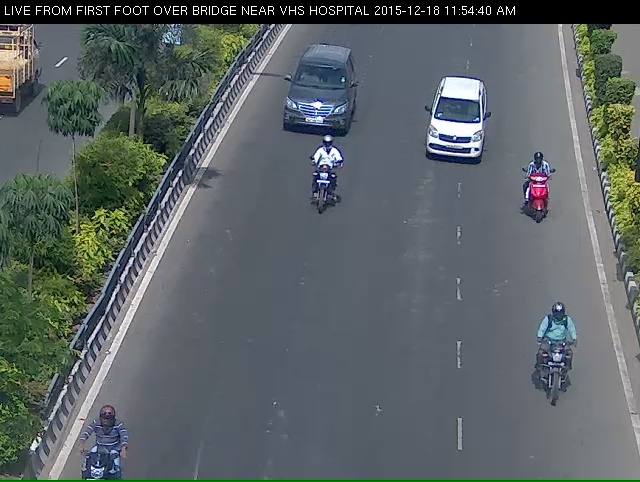Car: (264, 54, 353, 149), (413, 81, 492, 185)
Person: (525, 326, 591, 438), (287, 149, 358, 240), (517, 163, 562, 244)
